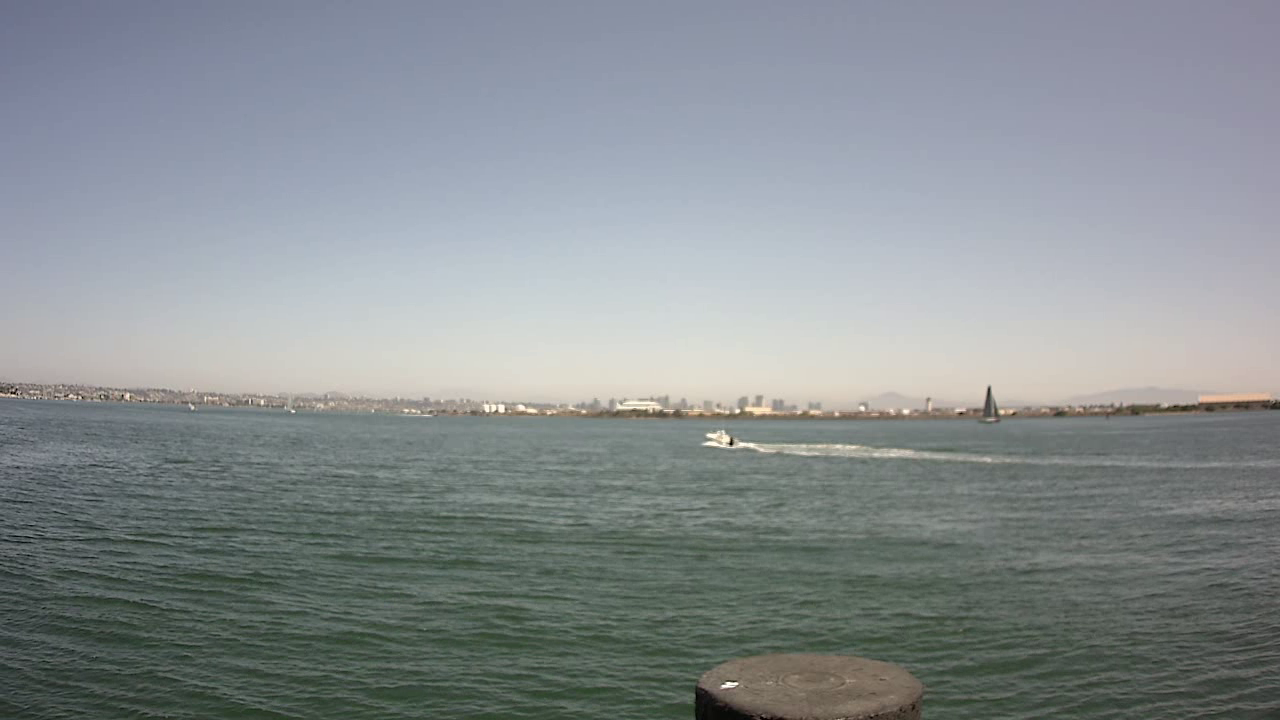target: (698, 422, 741, 451)
